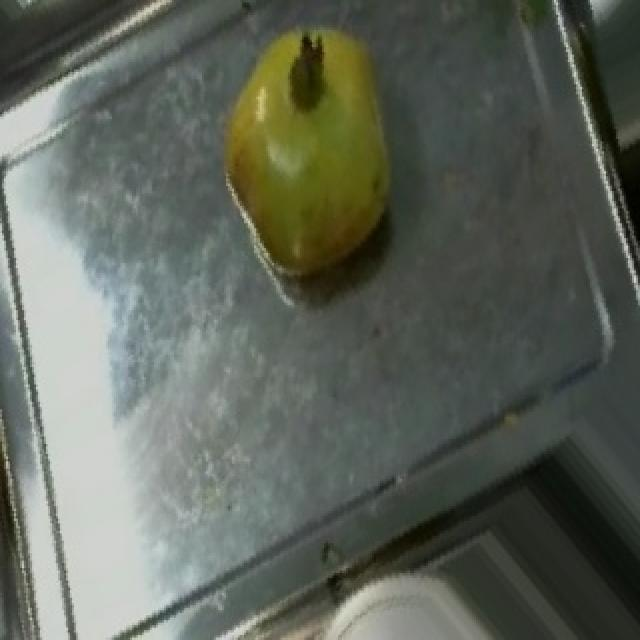fruit: (188, 0, 432, 278)
